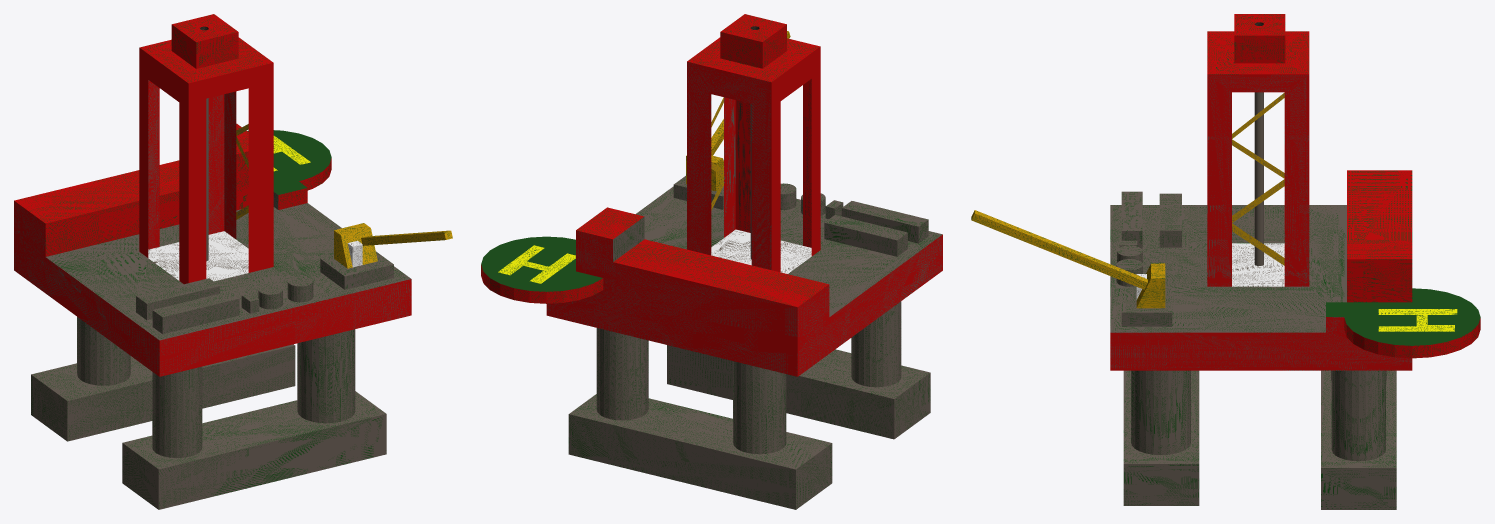
The model's file is rig.dae.
3 views of the same model, side by side, from view 1: azimuth 30°, elevation 25°; view 2: azimuth 150°, elevation 25°; view 3: azimuth 270°, elevation 25° (orthographic). The views are drawn at different scales.
Parts seen in each view (by area): view 1: SketchUp (×22); view 2: SketchUp (×19); view 3: SketchUp (×20).
Boxes of the visible parts, left/top/right/bottom form: SketchUp (×22): left=14, top=14, right=452, bottom=509; SketchUp (×19): left=481, top=14, right=942, bottom=509; SketchUp (×20): left=971, top=14, right=1480, bottom=509.
Size of the model in its own units: 4028 by 5537 by 5094.
